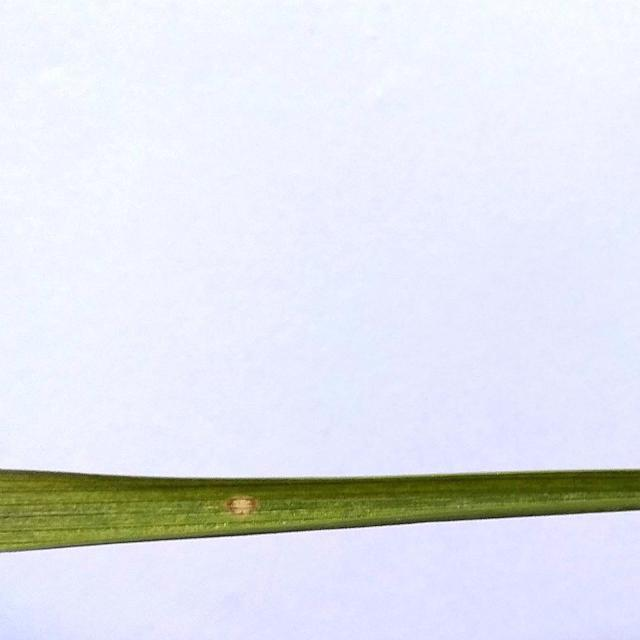Leaf_Blast: (223, 488, 257, 521)
